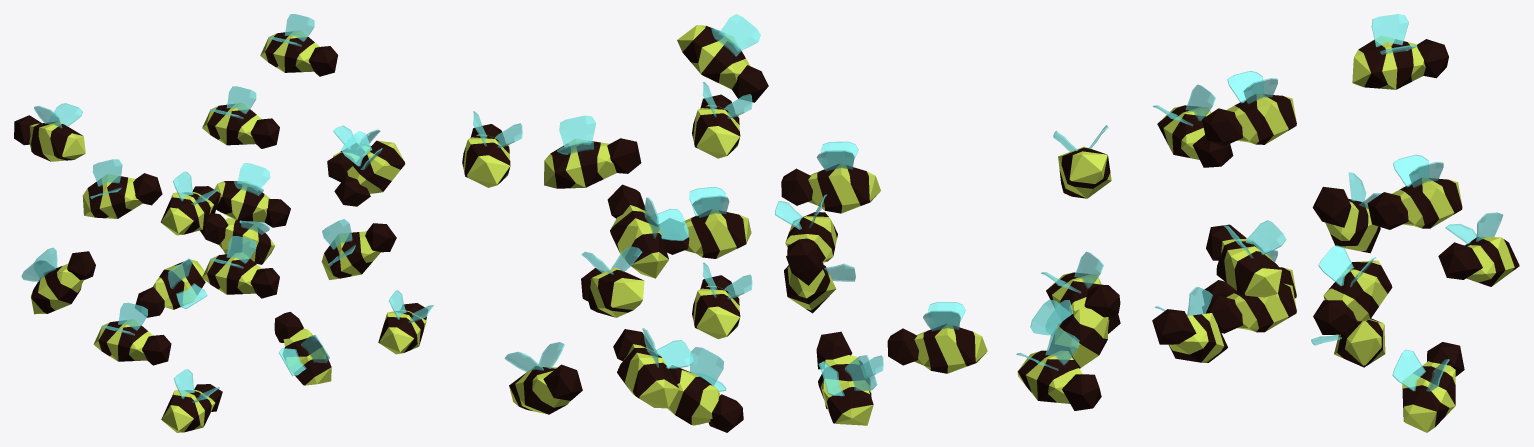
File: AttackingBees.fbx
3 views of the same model, side by side, from view 1: azimuth 30°, elevation 25°; view 2: azimuth 150°, elevation 25°; view 3: azimuth 270°, elevation 25° (orthographic). The views are drawn at different scales.
Visible parts, largest first — view 1: Cube.017; view 2: Cube.017; view 3: Cube.017.
Boxes of the visible parts, bbox=[...] form: Cube.017: bbox=[14, 14, 433, 432]; Cube.017: bbox=[462, 14, 987, 432]; Cube.017: bbox=[1016, 14, 1519, 432].
Bounding box in the file's own units: 171 × 130 × 183.
